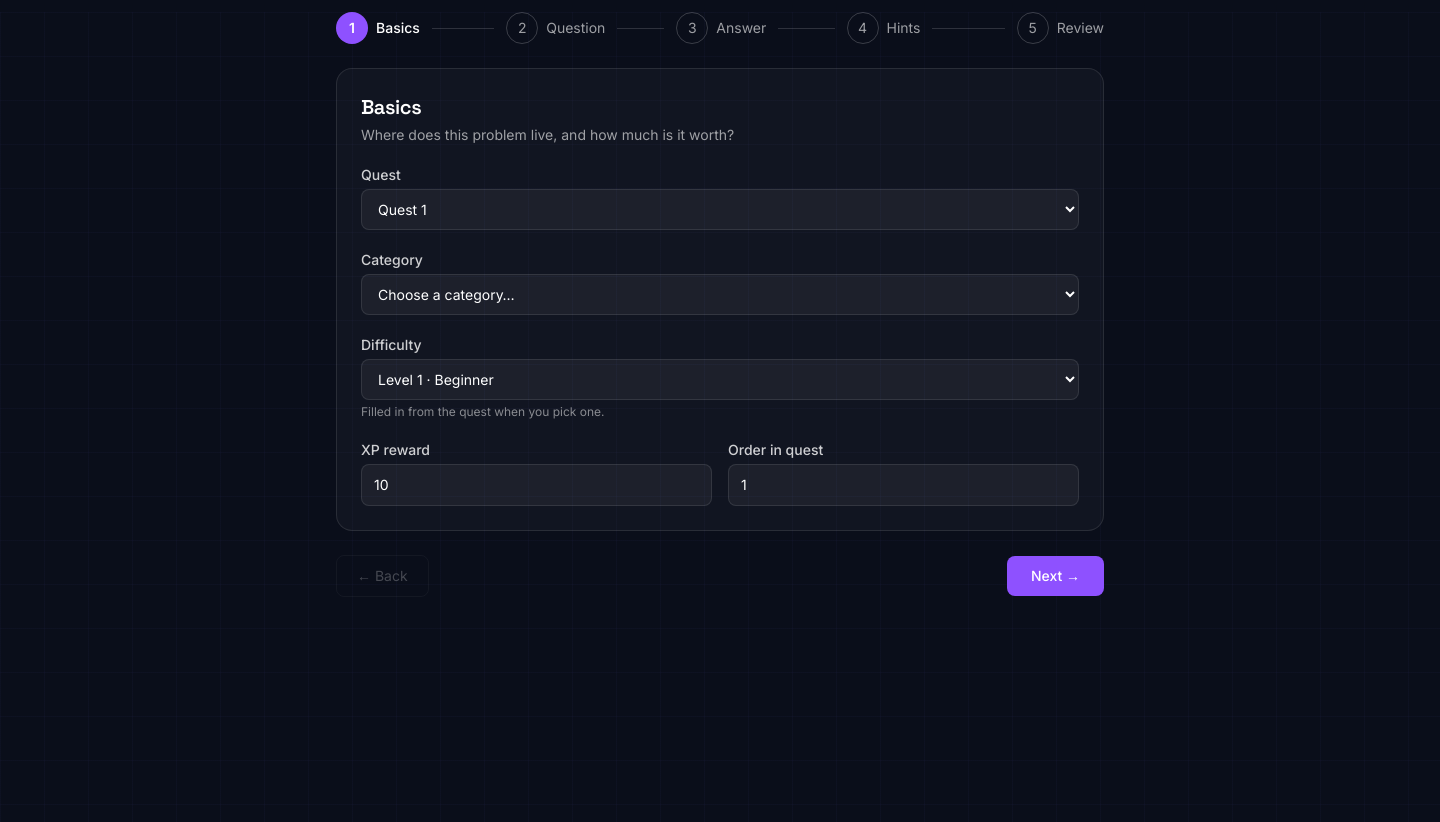
ProblemForm embed link › lets the user fix the link and continue
Click the button "Next →": (1055, 576) x1=1007 y1=556 x2=1104 y2=596
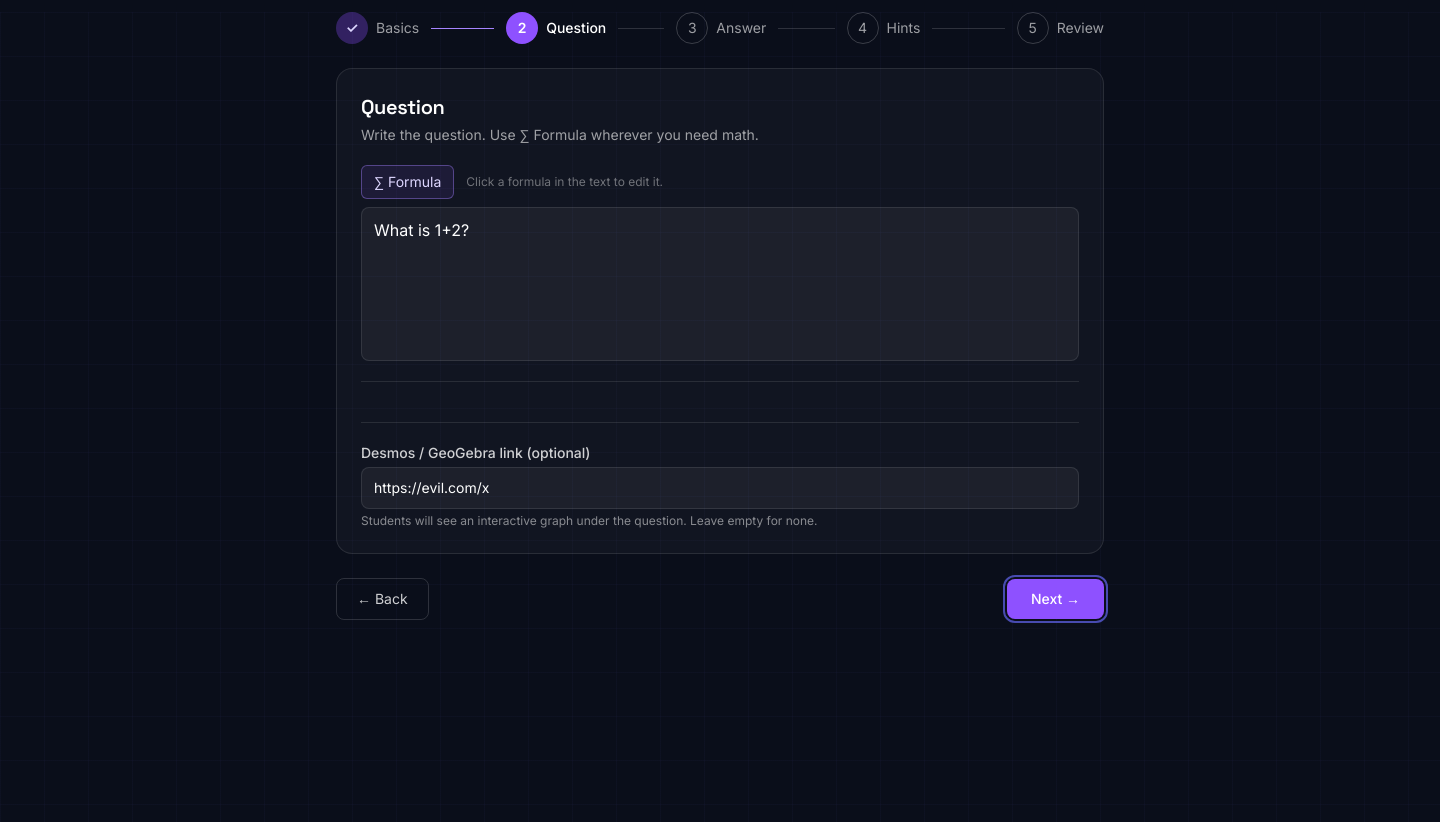
Click the button "Next →": (1055, 599) x1=1007 y1=579 x2=1104 y2=619
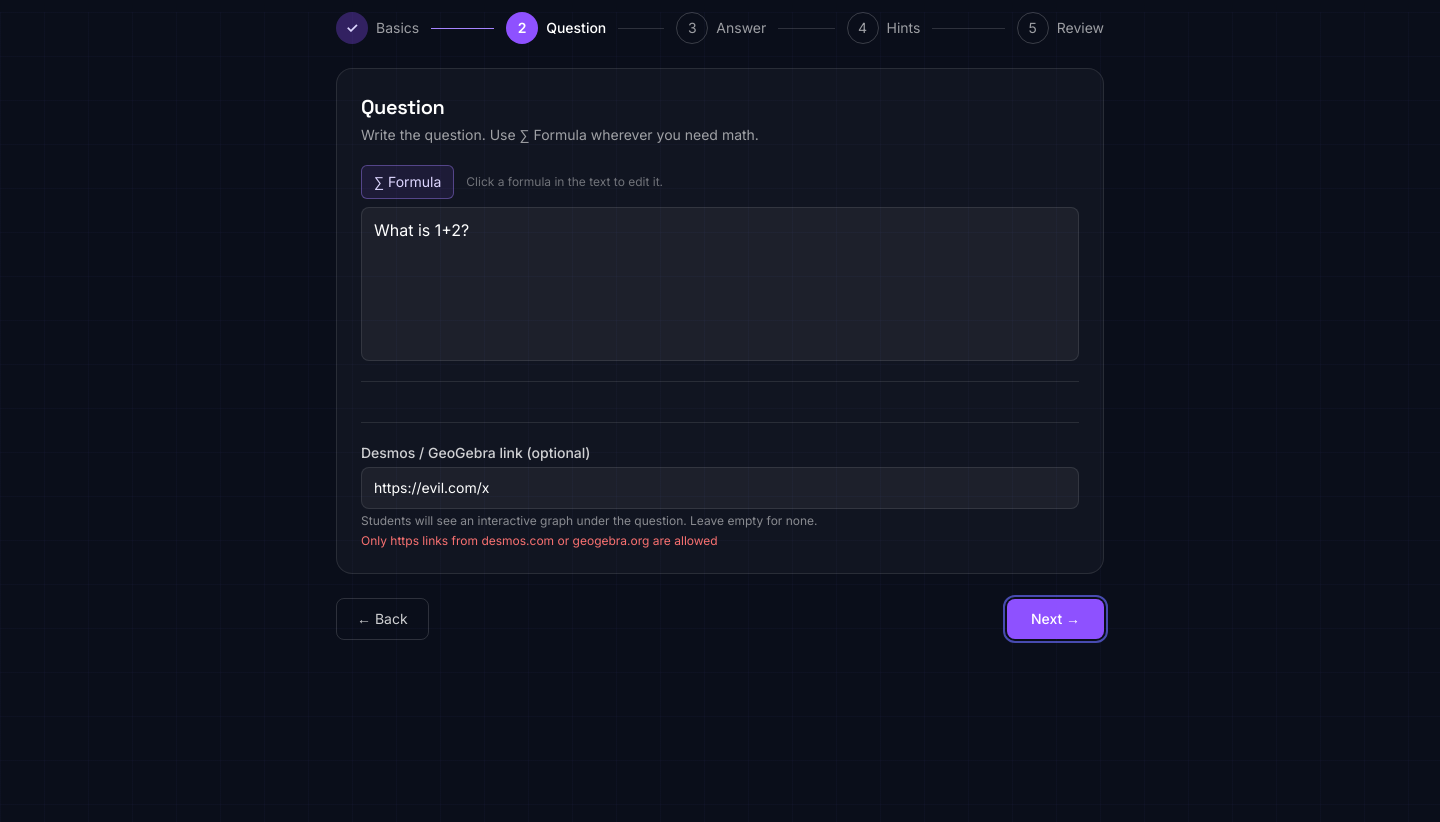
Now the text "Only https links from desmos.com or geogebra.org are allowed" is shown, box x1=361 y1=533 x2=718 y2=548
Replace the text in the field with placeholder "Paste a Desmos or GeoGebra link" with "https://www.desmos.com/calculator/abc123": (720, 488) x1=361 y1=467 x2=1079 y2=509
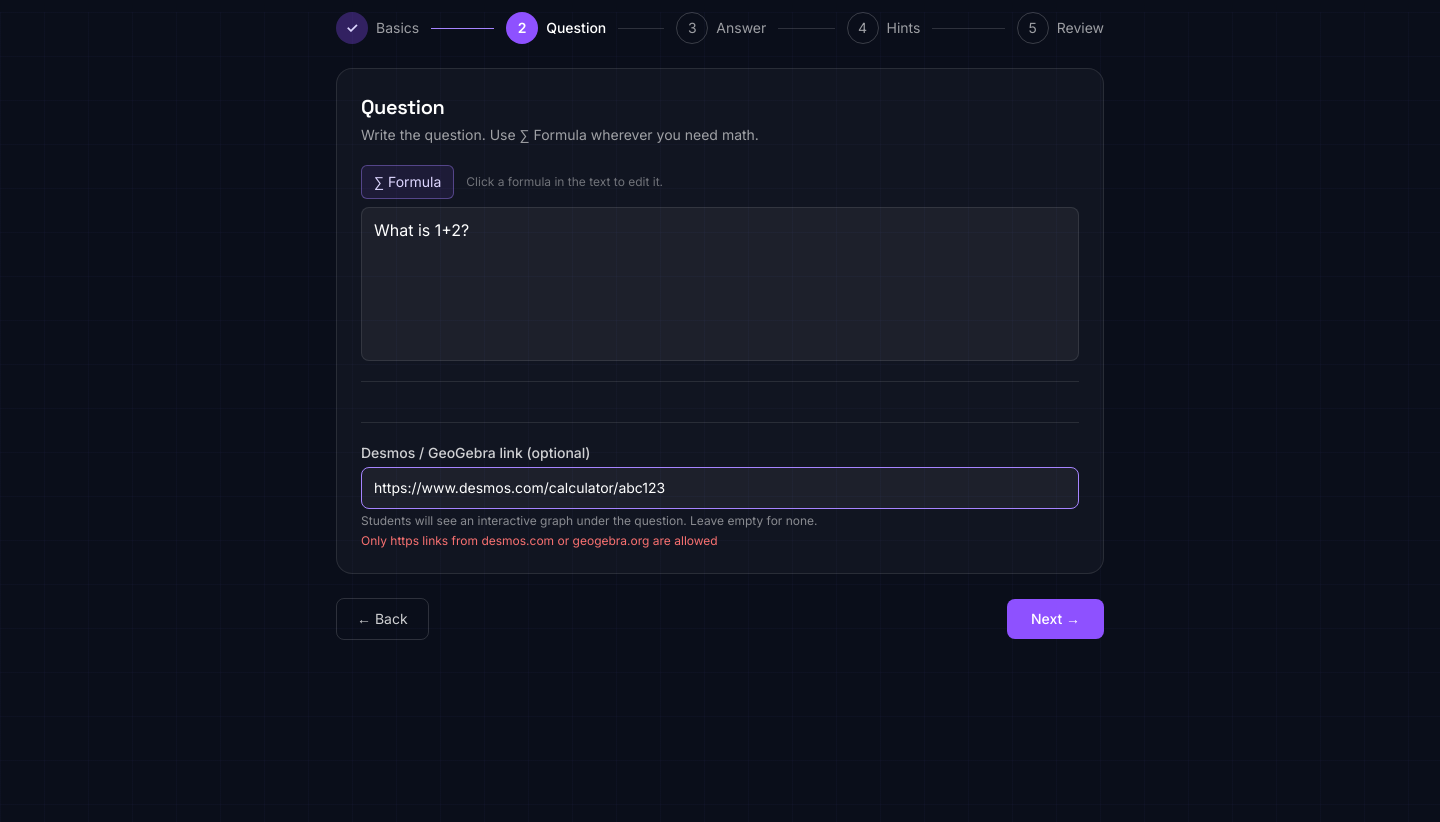
Click the button "Next →": (1055, 619) x1=1007 y1=599 x2=1104 y2=639
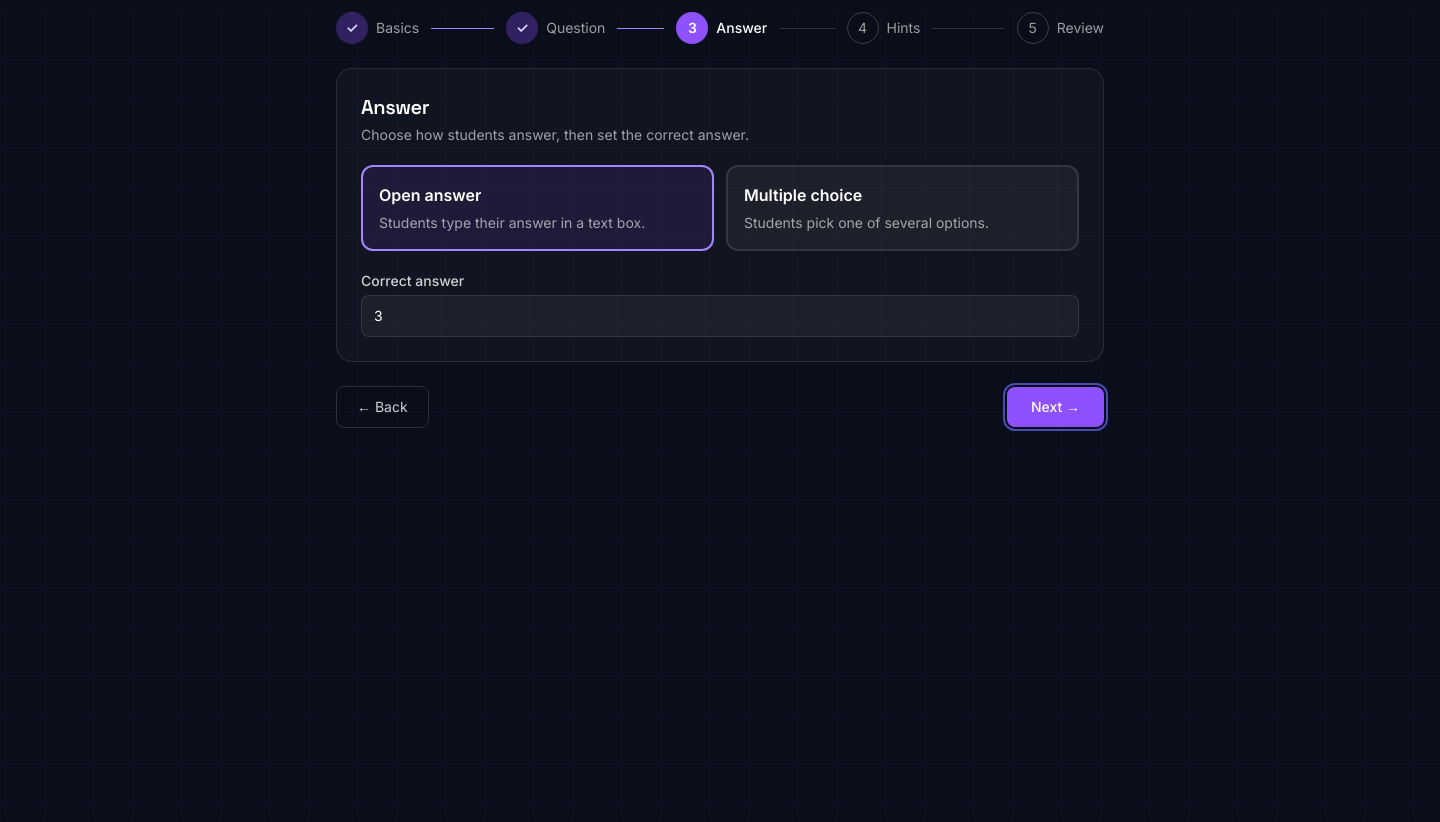
Now the heading "Answer" is shown, box x1=361 y1=94 x2=429 y2=120
